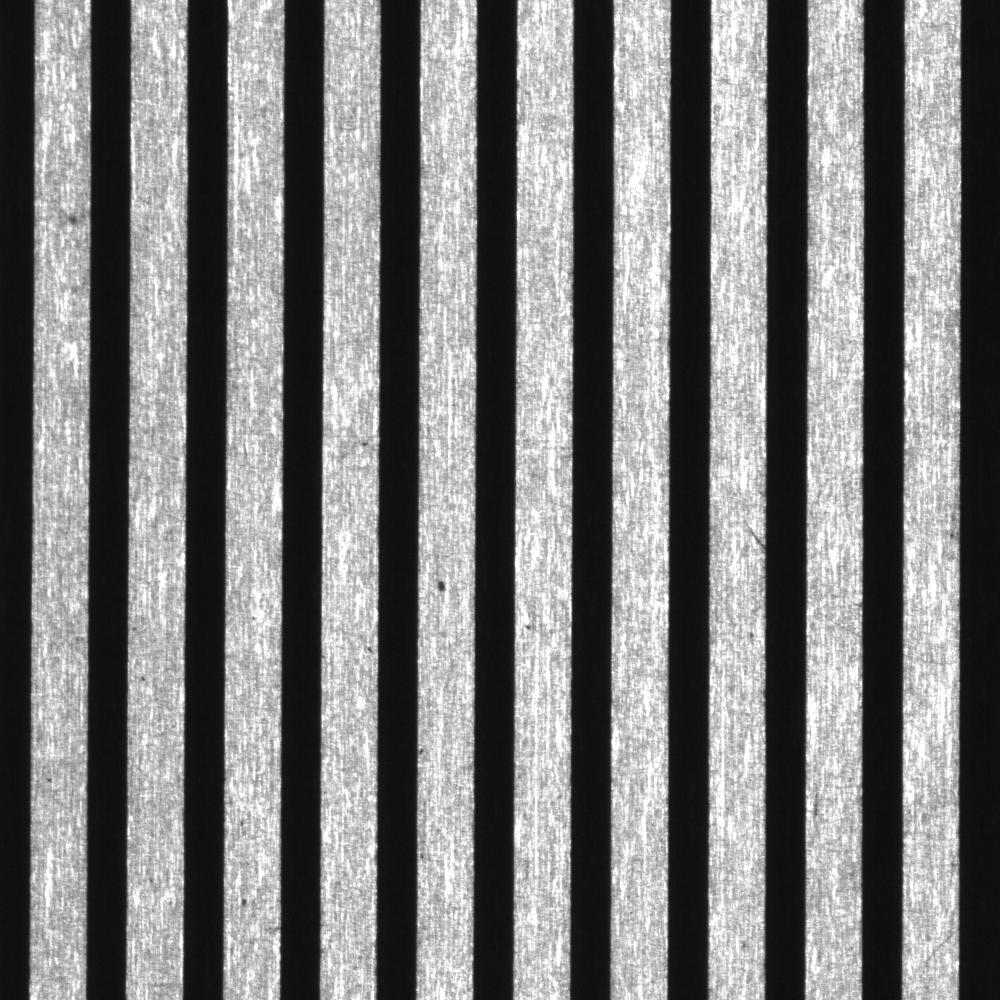Etching: (57, 208, 91, 234), (431, 576, 457, 601), (734, 934, 755, 957), (233, 892, 253, 911), (743, 627, 759, 645), (363, 641, 376, 660), (945, 527, 959, 543), (418, 849, 430, 867), (359, 437, 372, 453), (136, 672, 149, 686), (522, 622, 536, 635), (43, 776, 59, 787), (319, 650, 330, 665), (237, 818, 248, 831), (221, 773, 231, 786), (417, 747, 427, 757), (250, 616, 258, 623)
Pinhole: (130, 624, 140, 636)
Scar: (805, 589, 861, 642), (915, 923, 965, 973), (902, 638, 960, 675), (518, 426, 572, 458), (614, 428, 672, 451), (422, 428, 476, 450), (740, 513, 768, 555)
